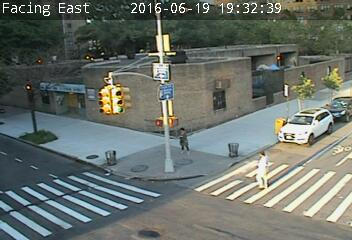neg: (36, 88, 52, 110), (279, 78, 295, 100), (76, 93, 92, 114), (250, 73, 262, 89)
pos: (246, 146, 280, 190), (173, 124, 195, 154)
